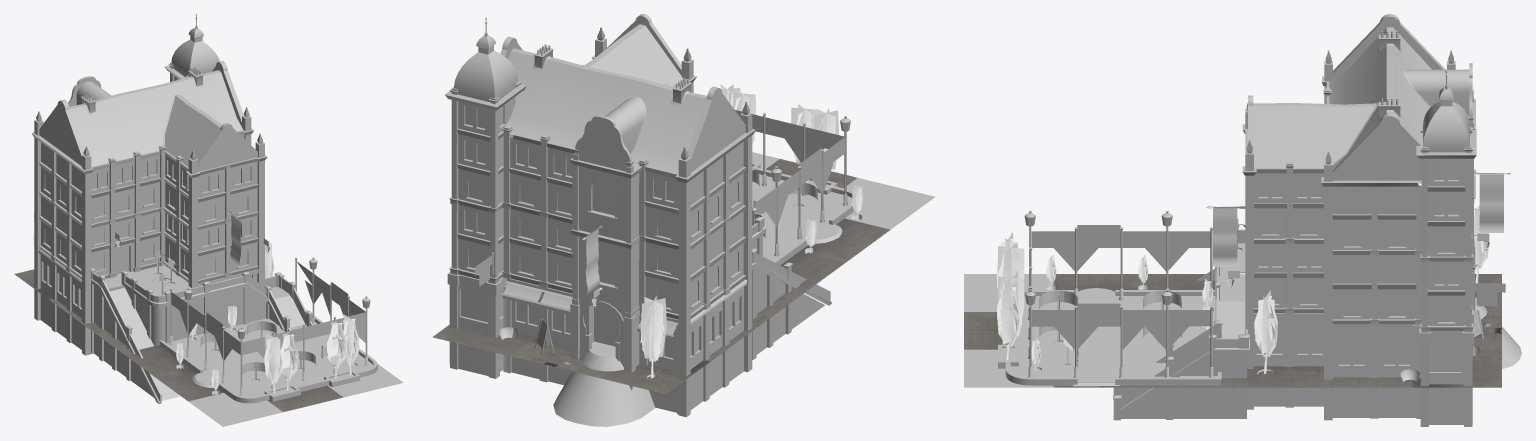
The model's file is restaurant.gltf.
3 views of the same model, side by side, from view 1: azimuth 30°, elevation 25°; view 2: azimuth 150°, elevation 25°; view 3: azimuth 270°, elevation 25° (orthographic). The views are drawn at different scales.
Visible parts, largest first — view 1: _lod0, file_c4_corner4.002, file_c4_center3.002, file_c4_endl.001, file_c4_corner4.001, file_c4_center3.001, prop_25_park_deco_tree_small_03, prop_27_park_deco_tree_small_03, prop_26_park_deco_tree_small_03, prop_28_park_deco_tree_small_03, file_19_restaurant_03, file_c4_endr.001; view 2: _lod0, file_c4_corner4.002, file_c4_center3.002, file_c4_endl.003, prop_42_park_deco_tree_small_03, file_c4_endl.004, file_c8_center2, file_c4_endl.001, file_20_restaurant_03, file_c4_center3.001, prop_25_park_deco_tree_small_03, file_c4_endr.001 (+1 smaller); view 3: _lod0, file_c4_endl.002, file_c4_corner4.001, file_c4_corner4.002, file_19_restaurant_03, file_20_restaurant_03, file_c4_endl.004, file_c4_center3.001, file_c4_center3.002, prop_28_park_deco_tree_small_03, prop_46_park_deco_tree_small_03, file_c4_center3.005 (+5 smaller).
Part boxes in pixels (box(x1,y1,x2,y2)): _lod0: box(31, 14, 377, 403); file_c4_corner4.002: box(188, 393, 282, 426); file_c4_center3.002: box(154, 367, 223, 401); file_c4_endl.001: box(119, 345, 188, 375); file_c4_corner4.001: box(328, 363, 403, 397); file_c4_center3.001: box(267, 385, 342, 412); prop_25_park_deco_tree_small_03: box(264, 334, 282, 393); prop_27_park_deco_tree_small_03: box(327, 321, 346, 378); prop_26_park_deco_tree_small_03: box(280, 332, 298, 390); prop_28_park_deco_tree_small_03: box(343, 314, 359, 375); file_19_restaurant_03: box(230, 215, 241, 265); file_c4_endr.001: box(84, 322, 126, 350); _lod0: box(445, 14, 853, 426); file_c4_corner4.002: box(844, 178, 935, 229); file_c4_center3.002: box(800, 218, 890, 262); file_c4_endl.003: box(588, 360, 710, 394); prop_42_park_deco_tree_small_03: box(640, 295, 666, 378); file_c4_endl.004: box(432, 325, 535, 356); file_c8_center2: box(510, 337, 594, 375); file_c4_endl.001: box(780, 251, 845, 295); file_20_restaurant_03: box(585, 229, 599, 295); file_c4_center3.001: box(766, 159, 857, 188); prop_25_park_deco_tree_small_03: box(813, 108, 839, 186); file_c4_endr.001: box(752, 293, 800, 328); _lod0: box(998, 14, 1521, 426); file_c4_endl.002: box(1233, 366, 1322, 387); file_c4_corner4.001: box(964, 349, 1053, 387); file_c4_corner4.002: box(964, 274, 1053, 311); file_19_restaurant_03: box(1213, 207, 1237, 266); file_20_restaurant_03: box(1479, 174, 1503, 232); file_c4_endl.004: box(1412, 349, 1501, 387); file_c4_center3.001: box(964, 312, 1004, 349); file_c4_center3.002: box(1053, 274, 1142, 291); prop_28_park_deco_tree_small_03: box(997, 281, 1021, 360); prop_46_park_deco_tree_small_03: box(1254, 290, 1277, 374); file_c4_center3.005: box(1322, 366, 1412, 387).
Size of what is drawn, in the model's own units: 3.02 by 4.26 by 6.22.
